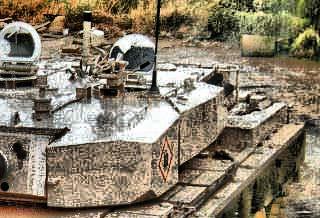tanks: (1, 24, 305, 218)
